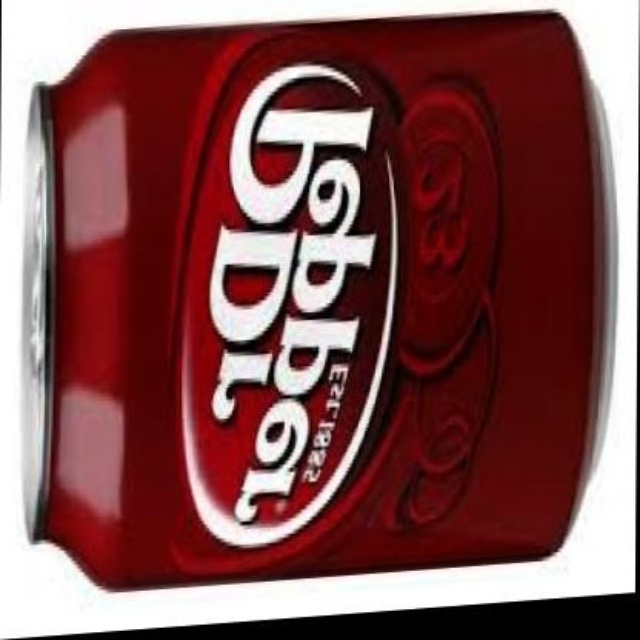trash: (29, 14, 608, 586)
